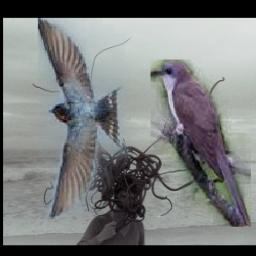Cuckoo: (151, 60, 251, 227)
Swallow: (39, 18, 132, 219)
